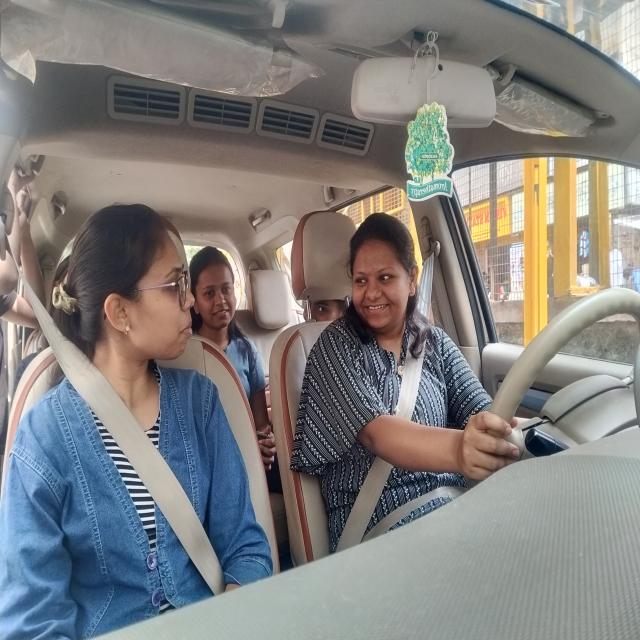LeftRight: (349, 216, 417, 331)
person: (64, 200, 197, 368), (192, 246, 240, 338), (309, 294, 348, 323)
talking: (366, 303, 392, 316)
